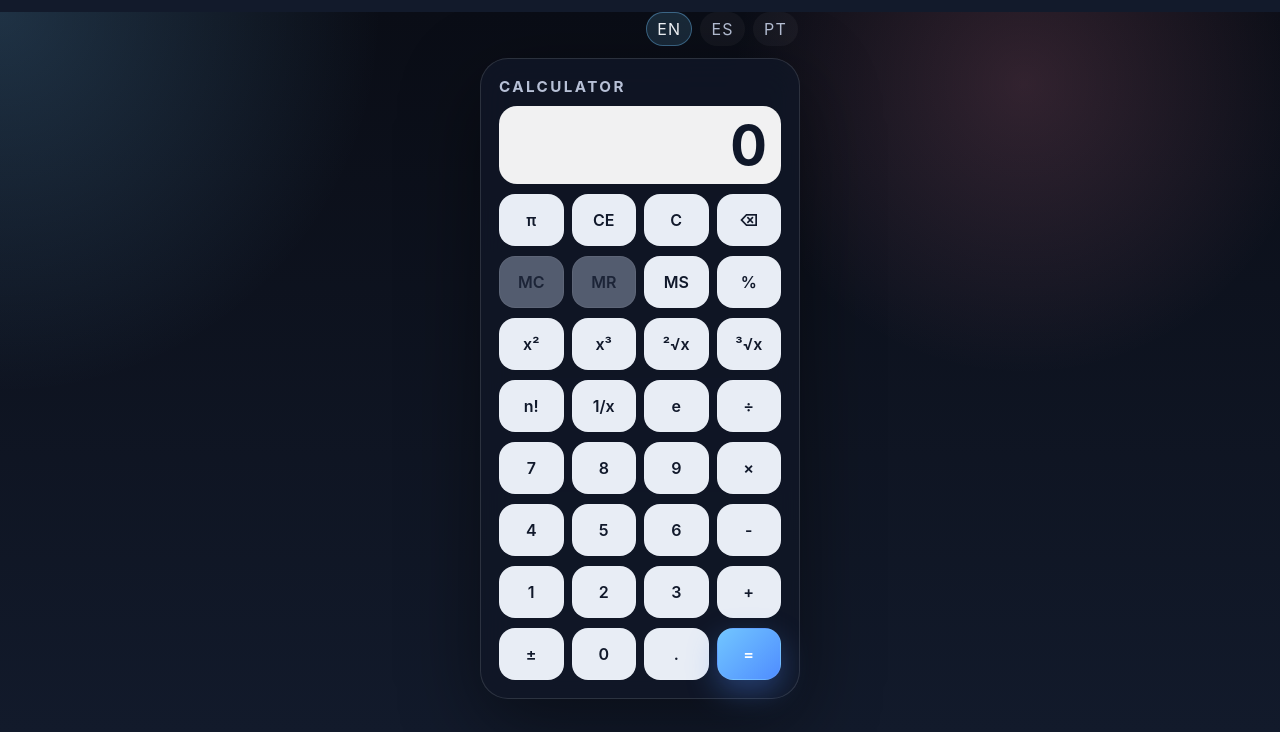
Calculator overflow chain › renders Infinity when chained formatting overflows
Click the button "5" at {"x": 604, "y": 530}, box [572,504,636,556]
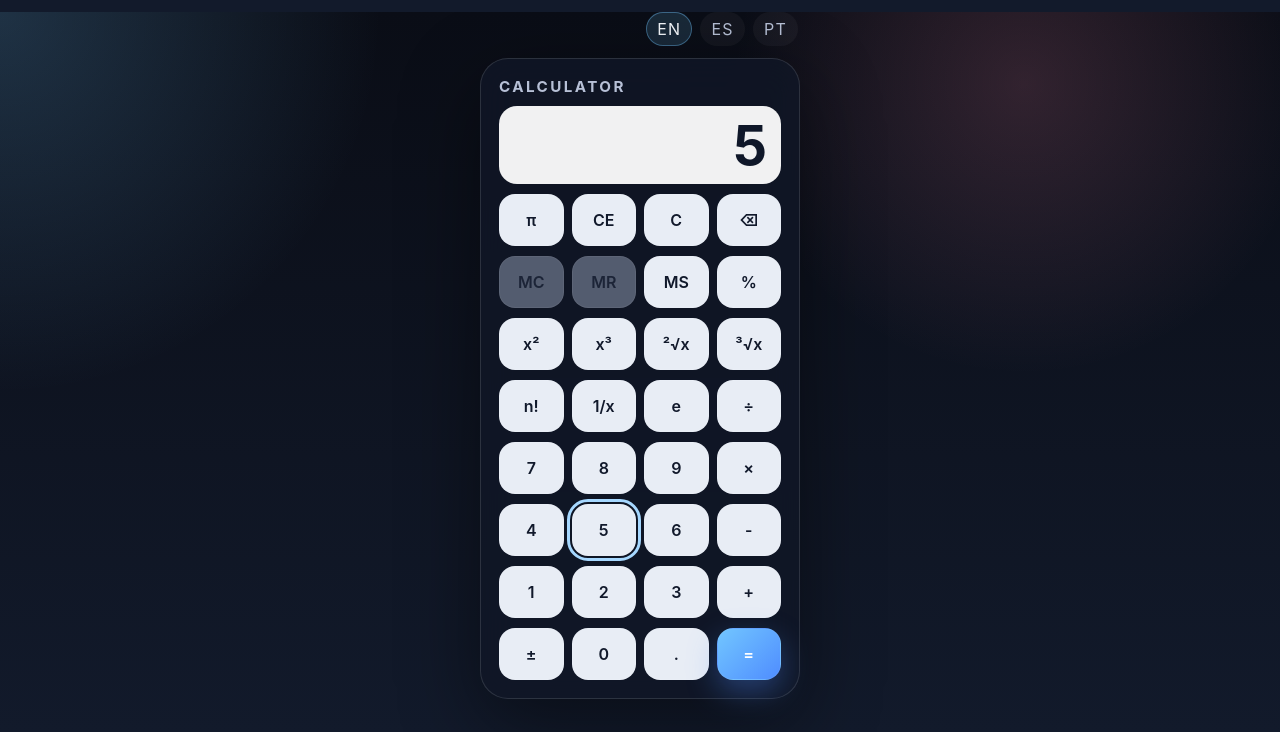
Click the button "+" at {"x": 749, "y": 592}, box [716,566,781,618]
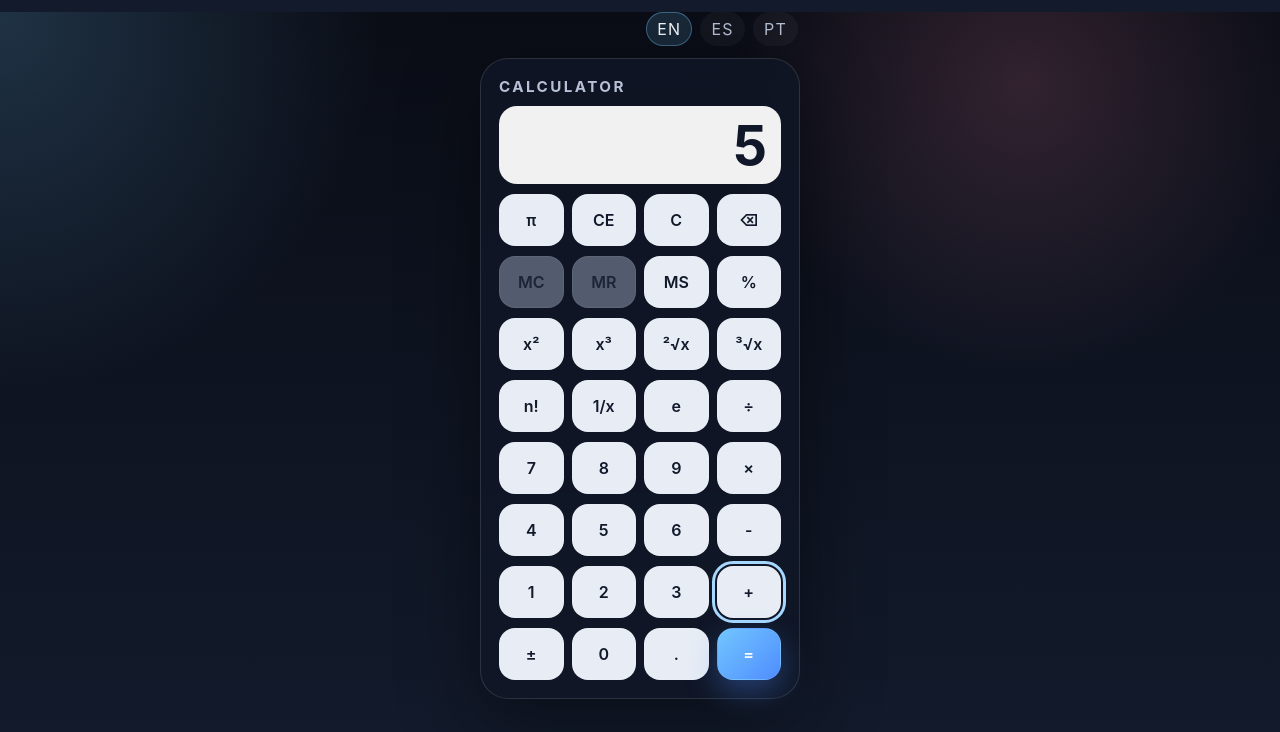
Click the button "2" at {"x": 604, "y": 592}, box [572,566,636,618]
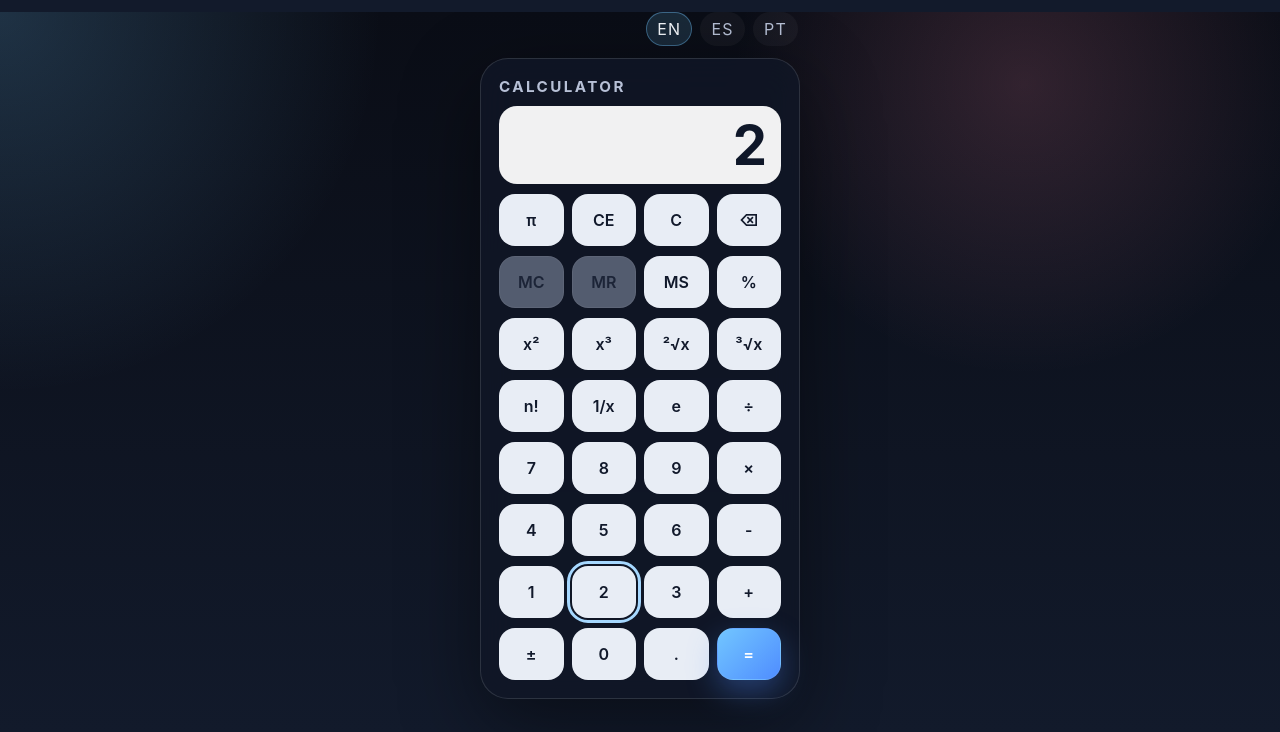
Click the button "×" at {"x": 749, "y": 468}, box [716,442,781,494]
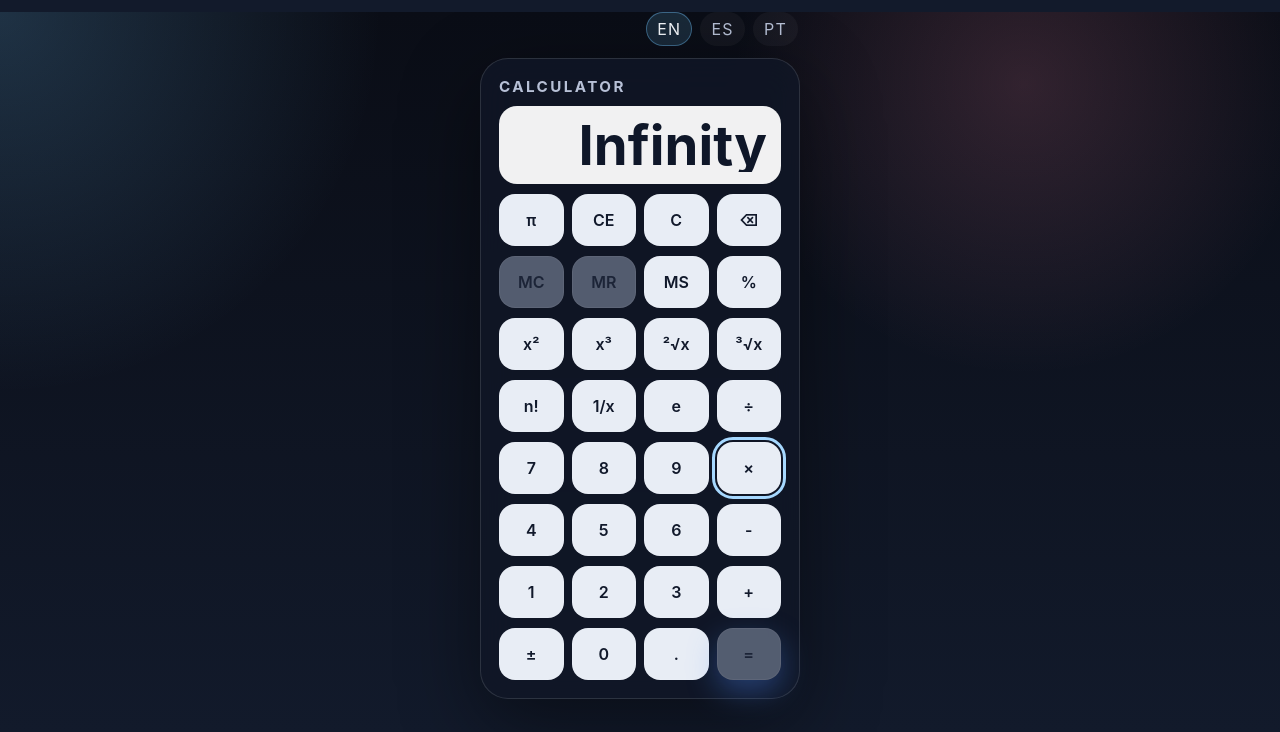
Expected: the message reads "Infinity", [579,112,767,178]
